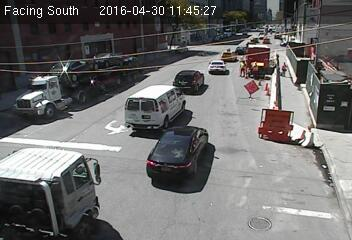neg: (246, 107, 287, 161), (226, 117, 257, 158), (40, 43, 62, 73), (166, 82, 187, 110), (88, 63, 108, 90), (183, 38, 203, 65), (284, 58, 304, 83), (55, 139, 74, 165), (245, 39, 264, 63), (167, 137, 185, 161), (139, 181, 156, 203), (98, 149, 114, 171), (61, 97, 74, 114)
